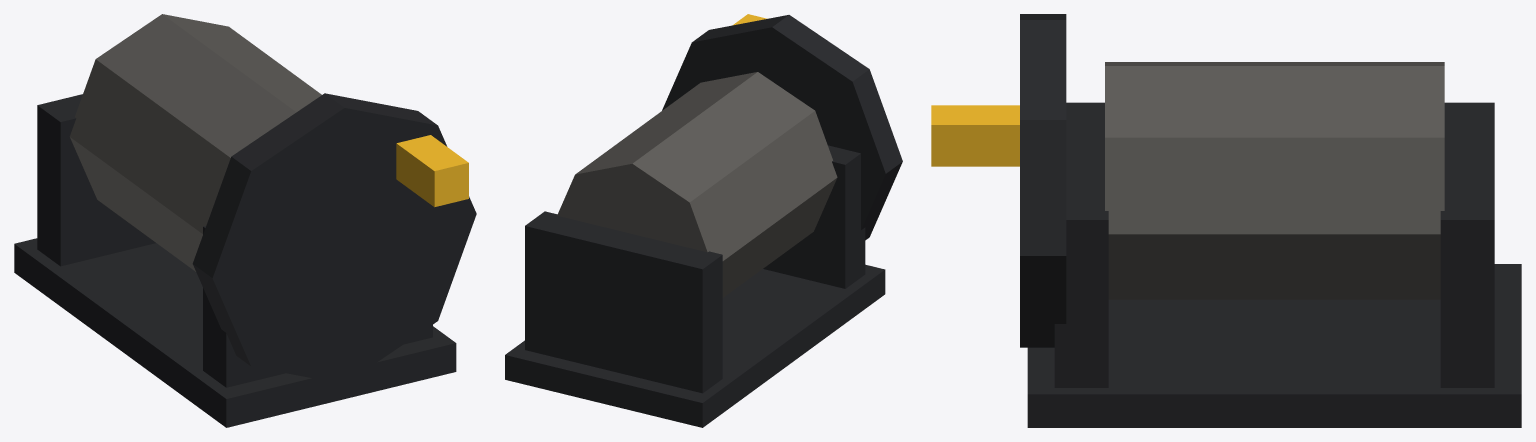
The model's file is industrial_winch.glb.
3 views of the same model, side by side, from view 1: azimuth 30°, elevation 25°; view 2: azimuth 150°, elevation 25°; view 3: azimuth 270°, elevation 25° (orthographic). The views are drawn at different scales.
Size of the model in its own units: 0.23 by 0.245 by 0.3825.
